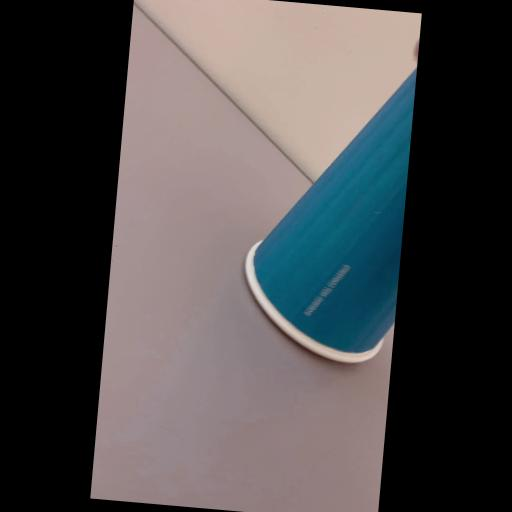lp_paper_cup: (234, 48, 418, 372)
